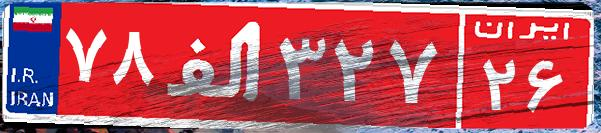2: (330, 28, 385, 110), (475, 38, 525, 113)
3: (273, 28, 330, 110)
6: (525, 38, 570, 115)
7: (385, 28, 445, 110), (57, 26, 110, 107)
8: (110, 28, 158, 105)
الف: (158, 15, 273, 115)
